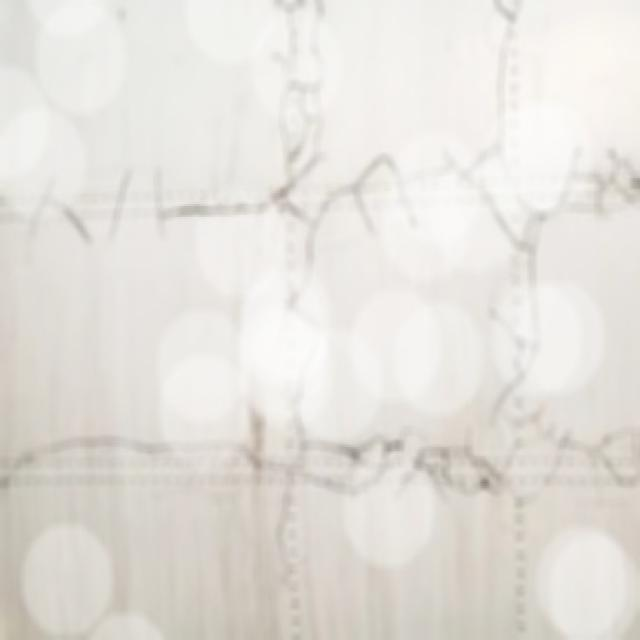crack: (10, 139, 640, 258), (1, 414, 640, 503), (259, 2, 331, 592), (486, 2, 552, 480)
